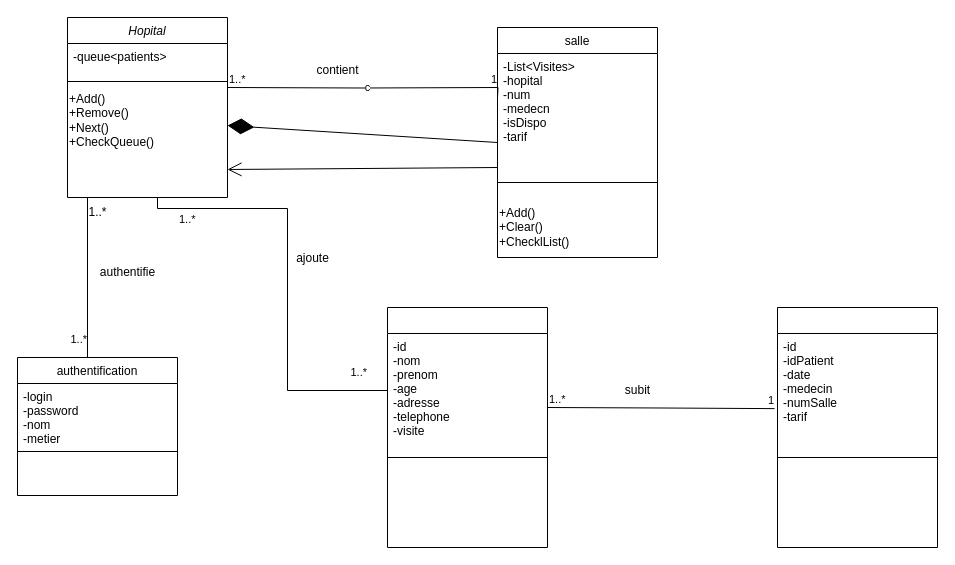
Some shapes in this 955 by 565 pixel diagram are drawn without their labels. The shapes that lost their labels are listed below. From the top down, each one's box as (x1, y1, x2, y2) in pixels, then its label:
(386, 306, 548, 548): patient
(776, 306, 938, 548): Visite
